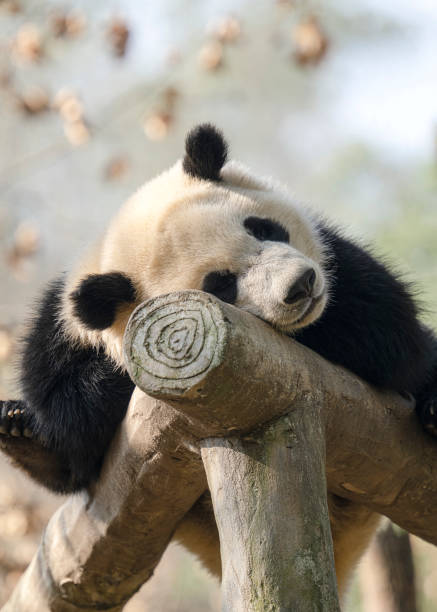panda: (56, 103, 366, 368)
